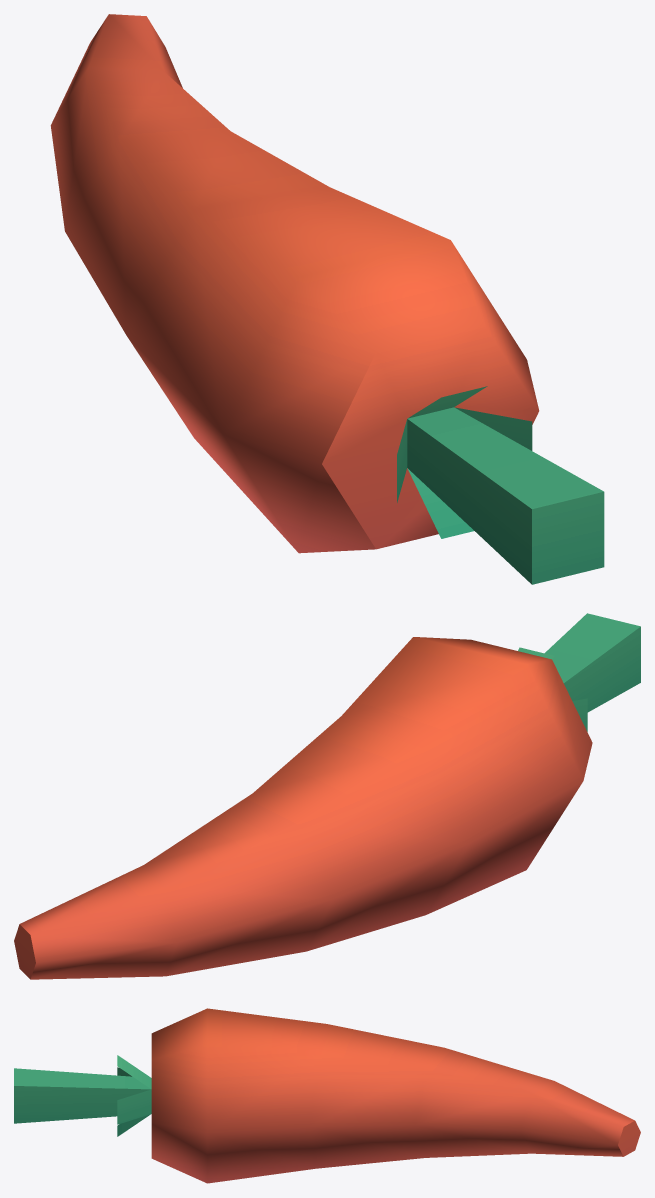
The model's file is chilli-harvest.glb.
3 renders of one model, top to bottom at view 1: azimuth 30°, elevation 25°; view 2: azimuth 150°, elevation 25°; view 3: azimuth 270°, elevation 25°, orthographic. The views are drawn at different scales.
Visible parts, largest first — view 1: pepper; view 2: pepper; view 3: pepper.
Boxes of the visible parts, x1,y1,x2,y2 form: pepper: [50, 14, 604, 584]; pepper: [14, 613, 640, 979]; pepper: [14, 1008, 640, 1183].
Bounding box in the file's own units: 0.3256 × 0.2428 × 1.
Materials: 1 (1 with a texture image).
